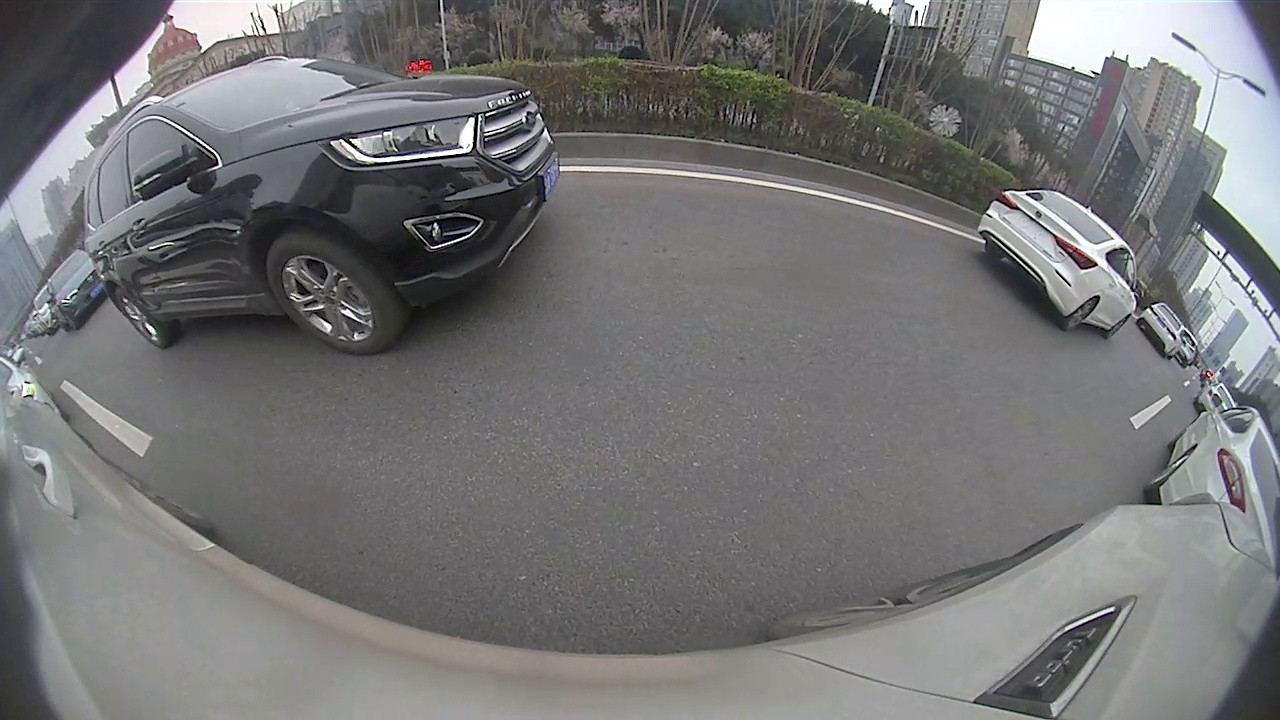car: (80, 53, 562, 355), (1140, 394, 1278, 578), (975, 188, 1140, 341), (43, 249, 104, 335), (1137, 302, 1187, 360)
front: (267, 227, 387, 353)
rear: (112, 288, 161, 349), (1060, 297, 1096, 332)
